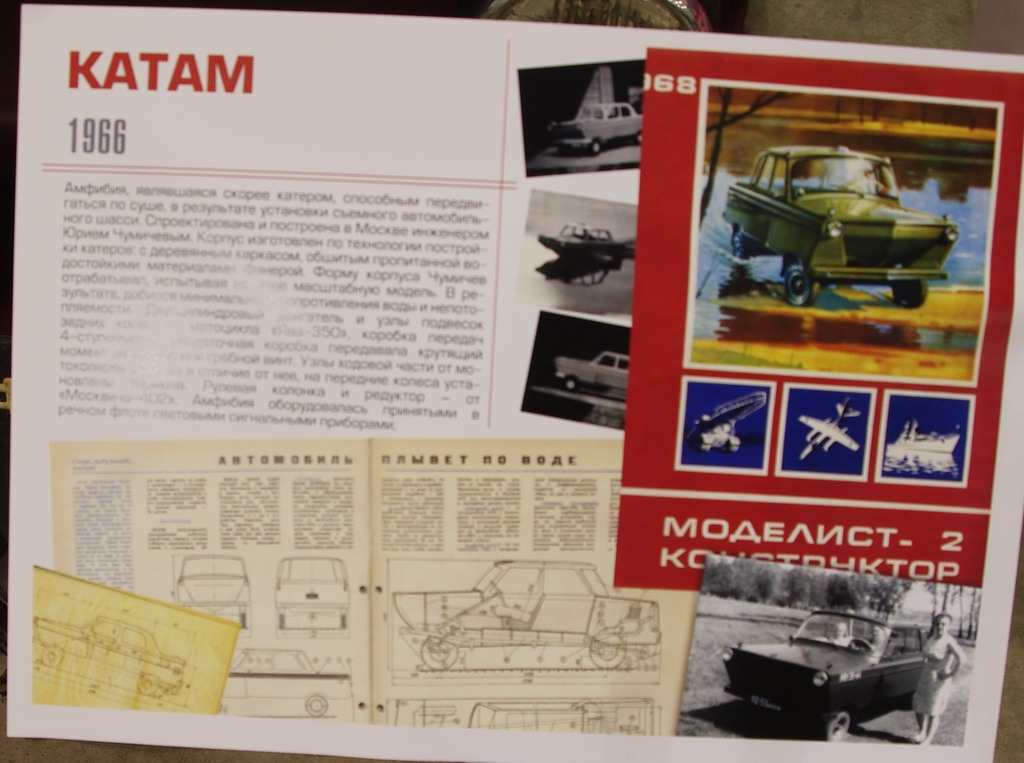Car: (721, 145, 954, 306), (391, 557, 662, 669), (720, 601, 928, 737), (30, 613, 185, 697), (216, 648, 355, 711), (275, 556, 352, 629), (547, 100, 641, 155), (175, 552, 252, 618), (553, 351, 628, 389)
